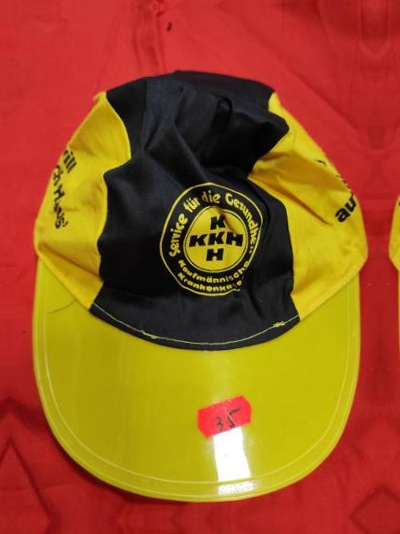Hat: (17, 58, 373, 500), (385, 52, 400, 493), (394, 534, 400, 534)
